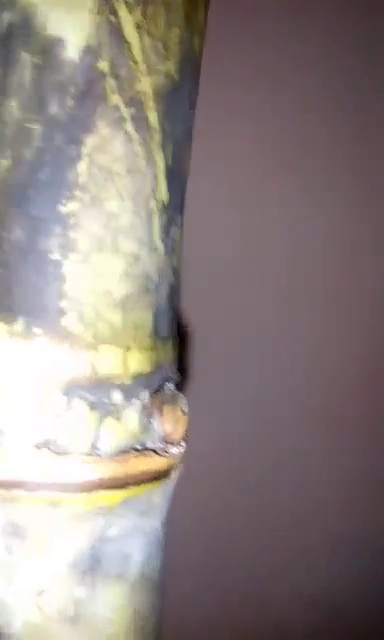cane eye: (143, 381, 192, 447)
